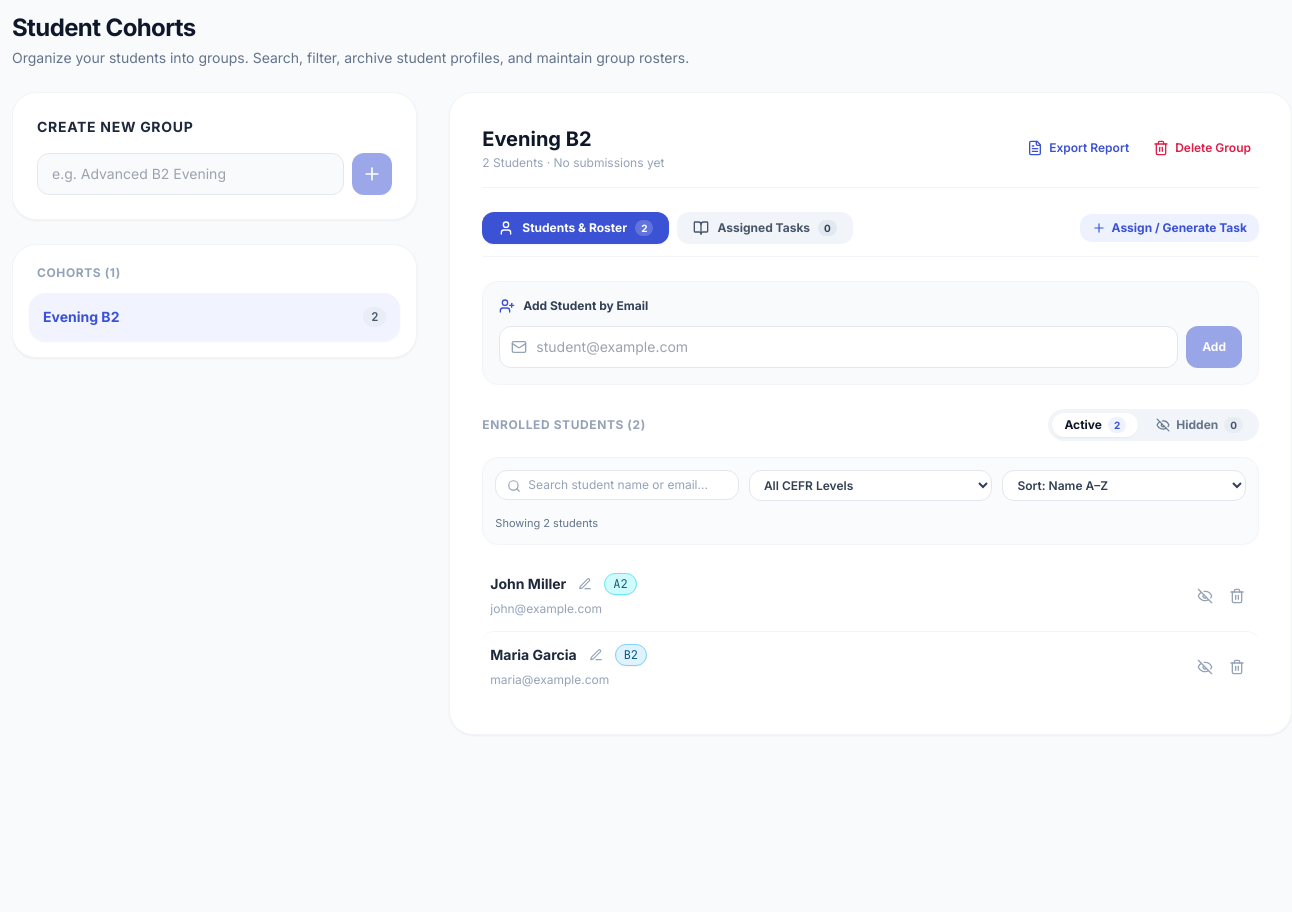
it: StudentGroups component › renders cohort students, filters by CEFR and hides/unhides student
The width and height of the screenshot is (1292, 912).
Check: the text "Maria Garcia" is shown, box [490,644,577,664]
Check: the text "John Miller" is shown, box [490,574,566,594]
Filter by search
In the field with placeholder "Search student name or email...": (617, 485) [495,470,739,500], type "Maria"
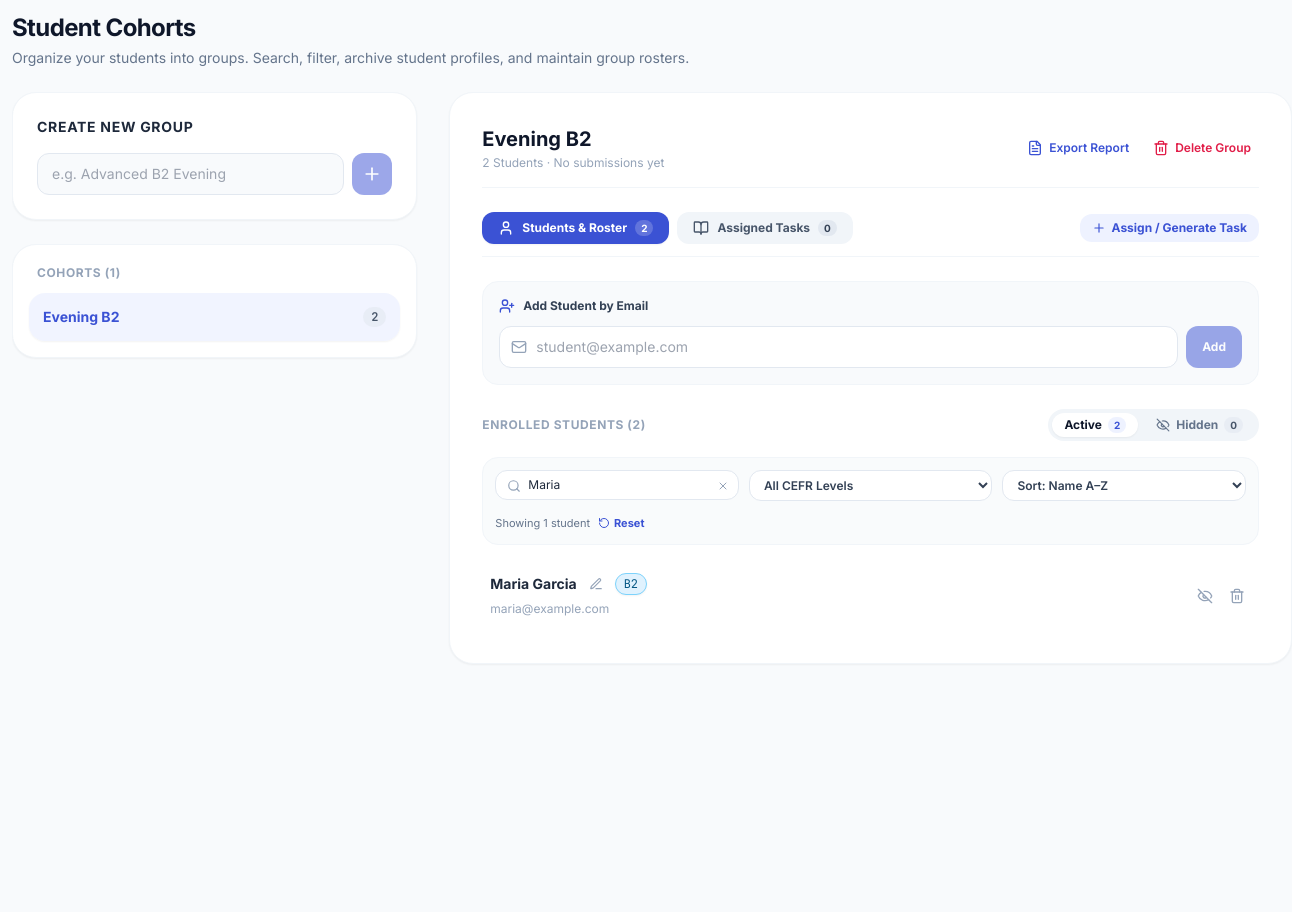
Check: the text "Maria Garcia" is shown, box [490,574,577,594]
Check: the text "John Miller" is gone
Clear search
Clear the field with placeholder "Search student name or email...": (617, 485) [495,470,739,500]
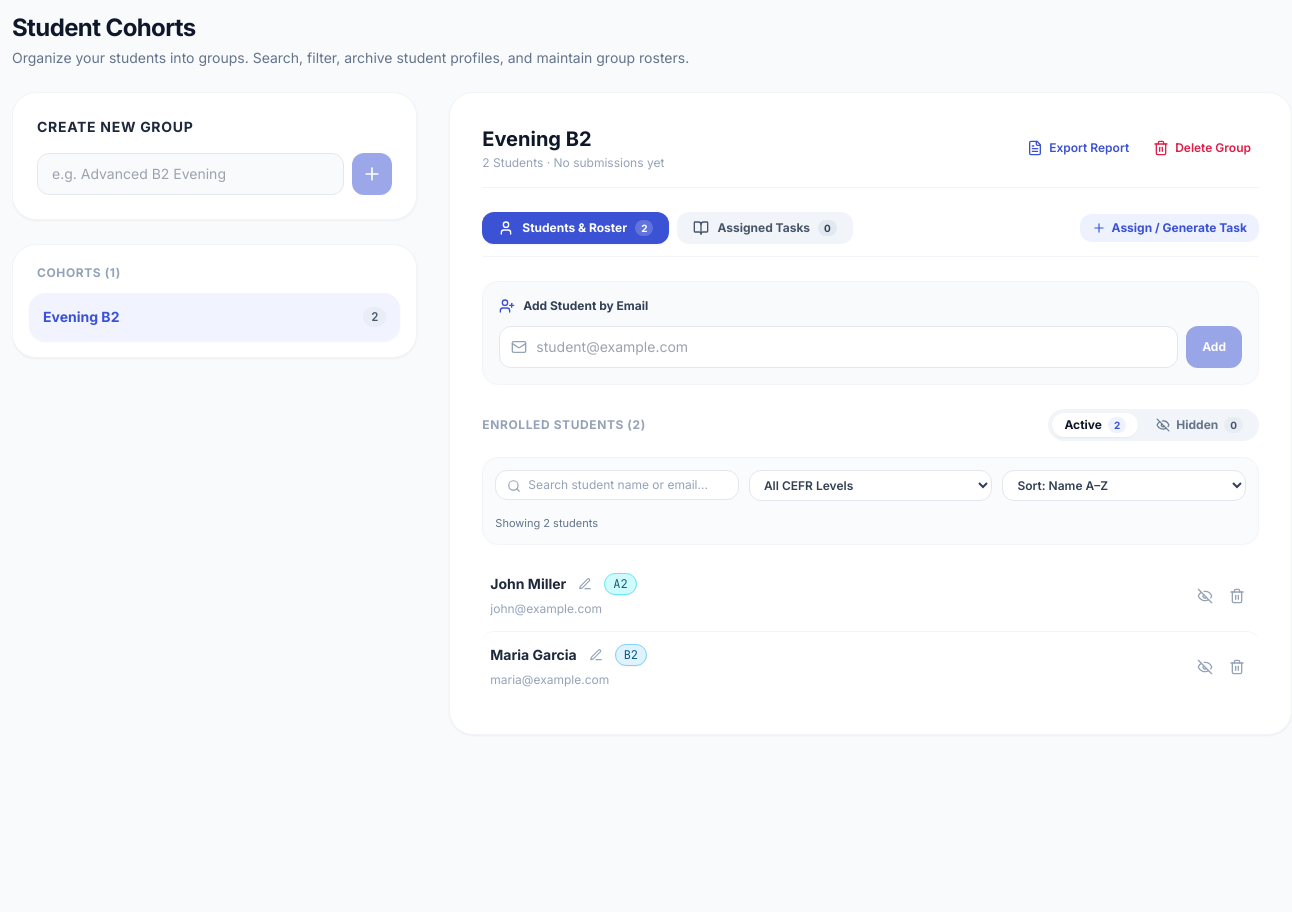
Check: the text "John Miller" is shown, box [490,574,566,594]
Hide student test
Click the button titled "hide student from active list" in the row of "A2": (1205, 596) [1191,582,1219,610]
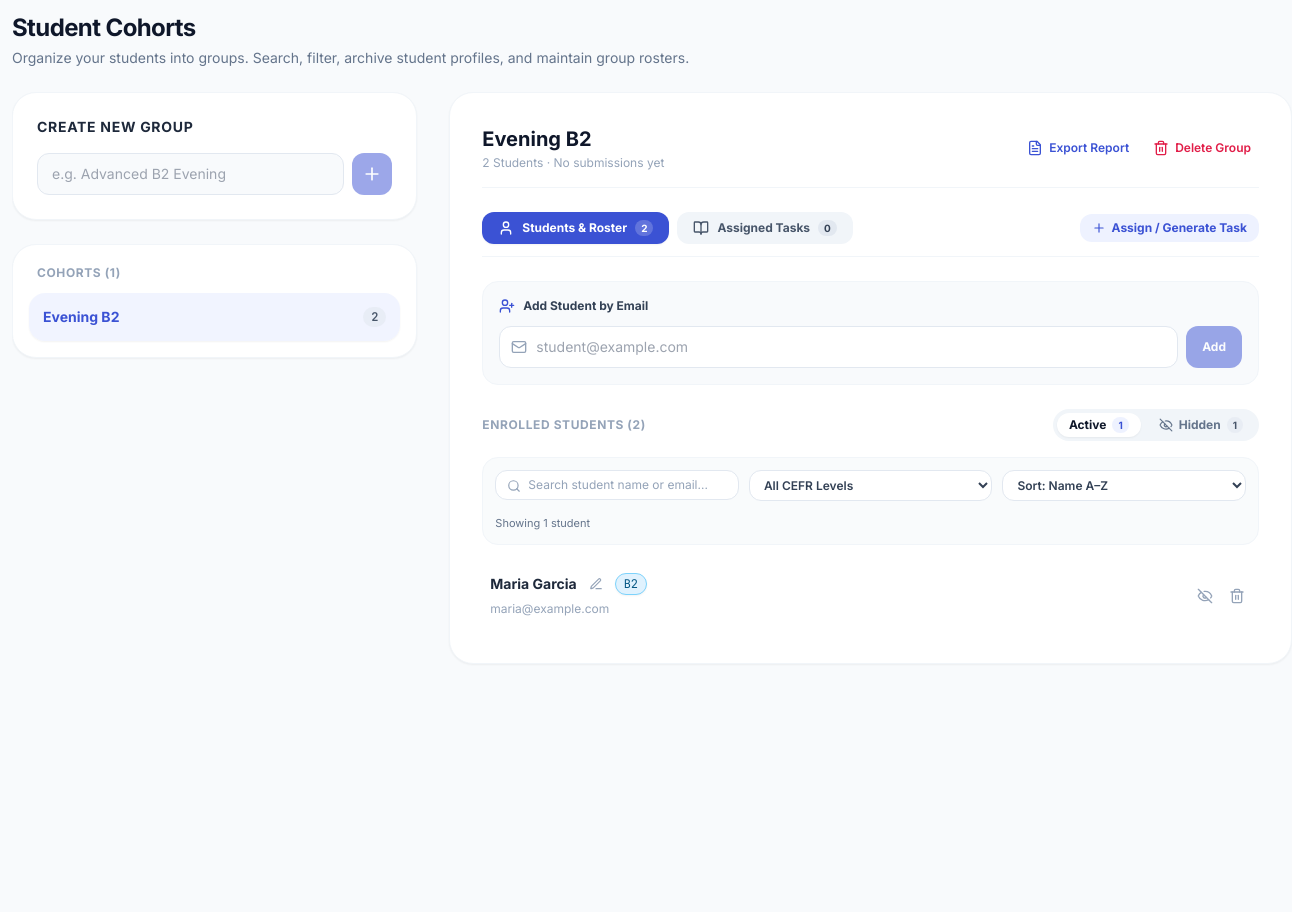
Switch to Hidden tab
Click the button "Hidden 1": (1201, 425) [1147,413,1255,437]
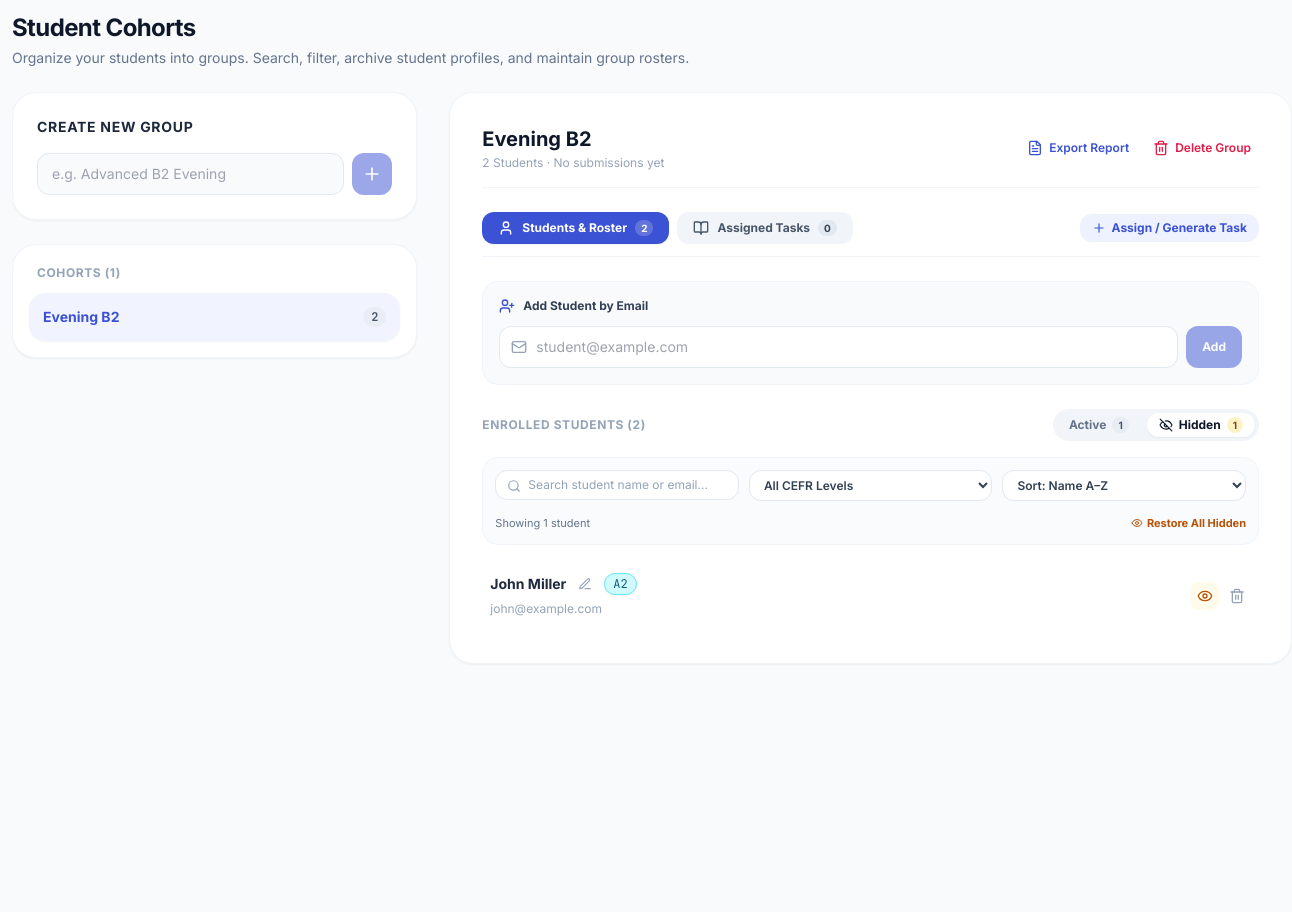
Check: the button titled "unhide student" is shown, box [1191,582,1219,610]
